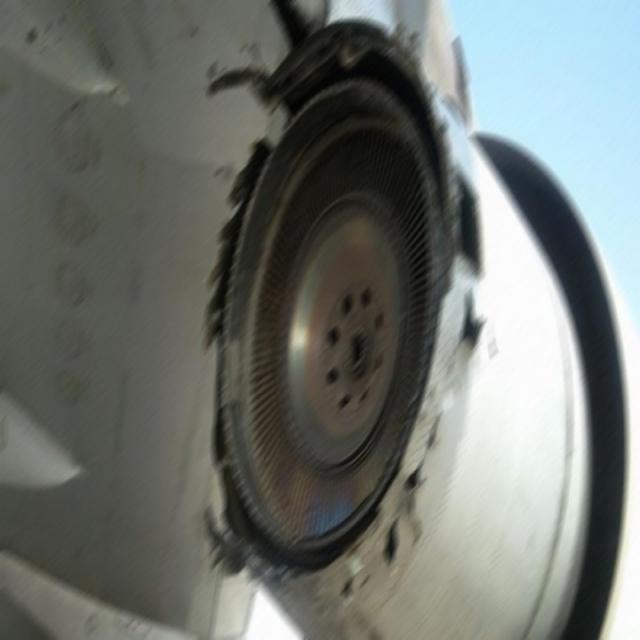crack: (208, 144, 378, 572), (341, 290, 488, 605), (212, 0, 419, 103)
